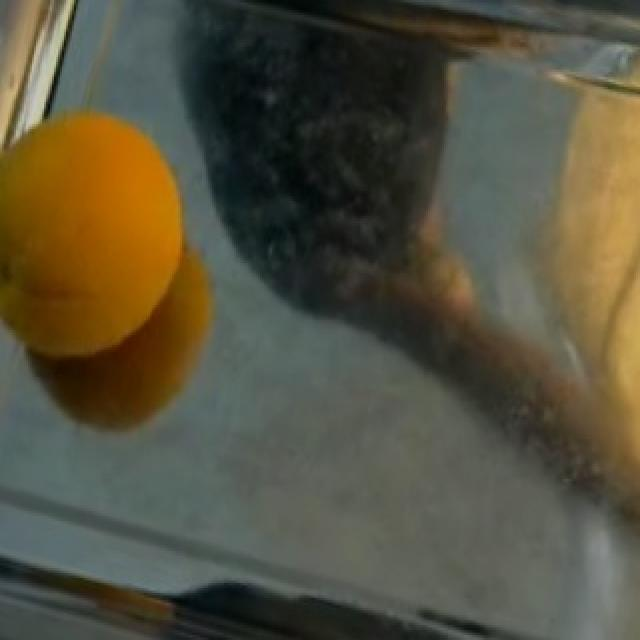Fruit: (2, 84, 208, 392)
